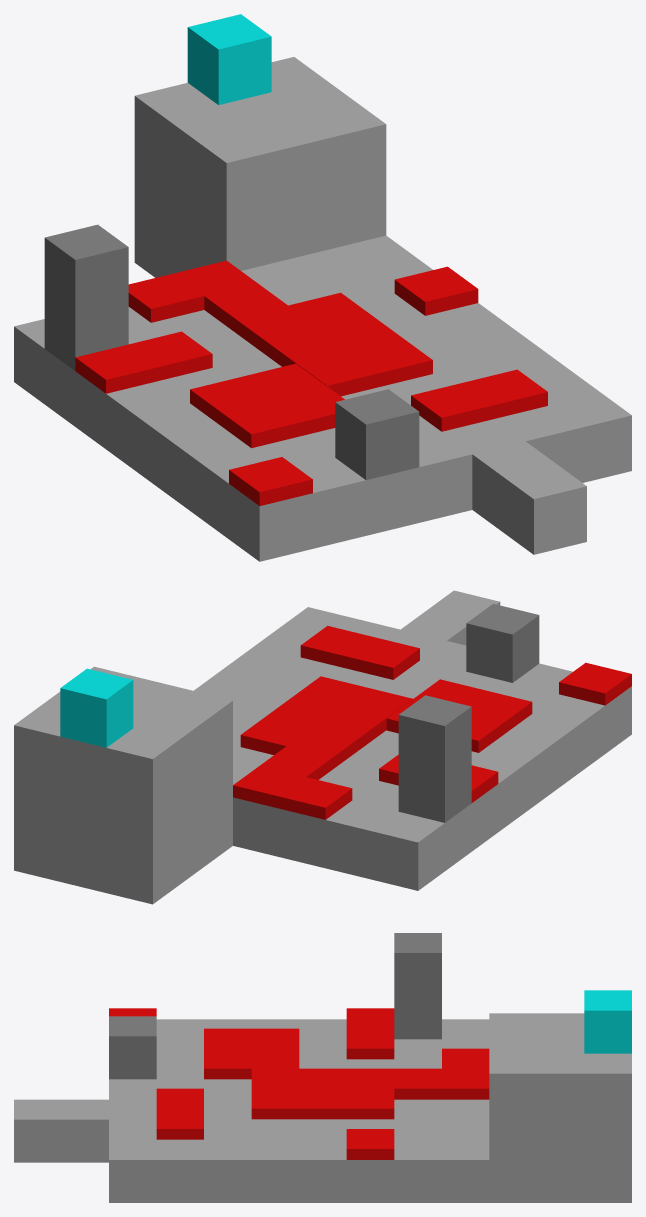
The model's file is Level1Test.fbx.
The picture shows the model from 3 angles, top to bottom: view 1: azimuth 30°, elevation 25°; view 2: azimuth 150°, elevation 25°; view 3: azimuth 270°, elevation 25°; orthographic projection. The views are drawn at different scales.
Visible parts, largest first — view 1: polySurface419, FObstruction6, FPillar, FObstruction3, FWater, FPillar1, polySurface265, polySurface415, FObstruction1, FObstruction2, polySurface433, polySurface409 (+43 smaller); view 2: polySurface419, FObstruction6, FPillar, FWater, FPillar1, polySurface430, FObstruction2, FObstruction3, polySurface336, FObstruction5, polySurface277, polySurface279 (+38 smaller); view 3: polySurface419, FObstruction6, FPillar, FObstruction3, polySurface287, FWater, polySurface291, polySurface265, polySurface269, FPillar1, polySurface285, polySurface289 (+44 smaller).
Boxes of the visible parts, x1,y1,x2,y2 form: polySurface419: [134, 96, 386, 277]; FObstruction6: [235, 292, 432, 396]; FPillar: [44, 224, 128, 370]; FObstruction3: [190, 363, 344, 448]; FWater: [187, 14, 271, 104]; FPillar1: [335, 389, 419, 480]; polySurface265: [503, 464, 586, 554]; polySurface415: [196, 128, 279, 218]; FObstruction1: [75, 331, 212, 393]; FObstruction2: [411, 369, 547, 431]; polySurface433: [229, 484, 312, 561]; polySurface409: [303, 102, 386, 192]; polySurface419: [14, 720, 232, 904]; FObstruction6: [240, 676, 412, 769]; FPillar: [398, 695, 471, 822]; FWater: [60, 668, 133, 747]; FPillar1: [466, 604, 539, 682]; polySurface430: [372, 811, 444, 890]; FObstruction2: [300, 625, 419, 679]; FObstruction3: [386, 679, 532, 752]; polySurface336: [325, 800, 397, 879]; FObstruction5: [233, 746, 332, 808]; polySurface277: [532, 694, 605, 772]; polySurface279: [506, 714, 578, 792]; polySurface419: [489, 1073, 631, 1202]; FObstruction6: [251, 1068, 394, 1119]; FPillar: [394, 933, 441, 1039]; FObstruction3: [204, 1028, 299, 1079]; polySurface287: [251, 1139, 299, 1202]; FWater: [584, 990, 631, 1053]; polySurface291: [394, 1139, 441, 1202]; polySurface265: [14, 1099, 61, 1162]; polySurface269: [109, 1139, 156, 1202]; FPillar1: [109, 1016, 156, 1079]; polySurface285: [204, 1139, 251, 1202]; polySurface289: [299, 1139, 346, 1202].
Bounding box in the file's own units: 736 × 421 × 1367.
